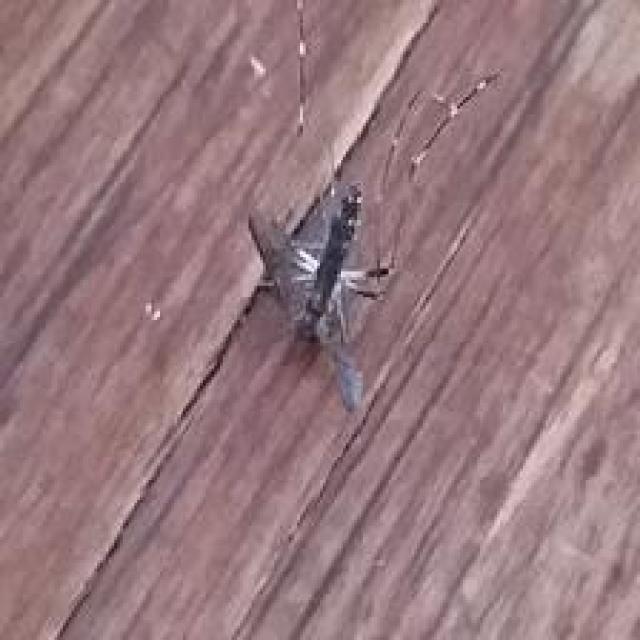Aedes albopictus: (240, 176, 397, 413)
